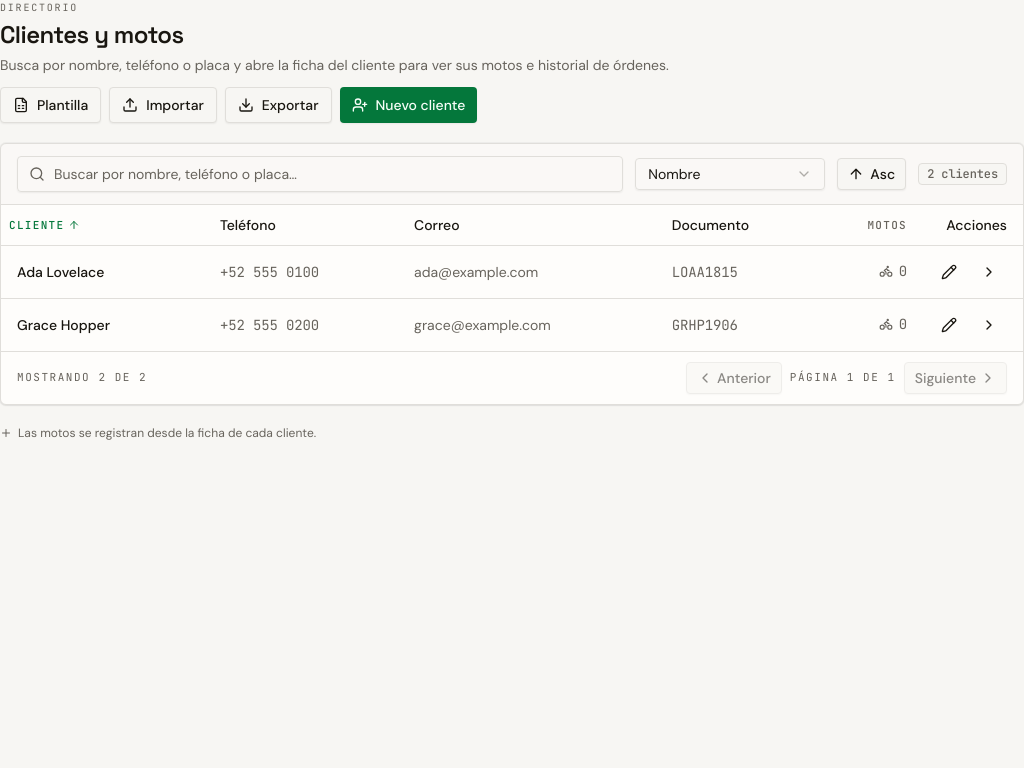
it: CustomersPage customer modal (characterization) › opens the edit modal seeded with the clicked customer's own data
This screenshot has width=1024, height=768.
Check: the link "Ada Lovelace" is shown, box [17,262,104,280]
Click the button with test id "customers.edit_button.2" at [949, 324], box [931,306,967,342]
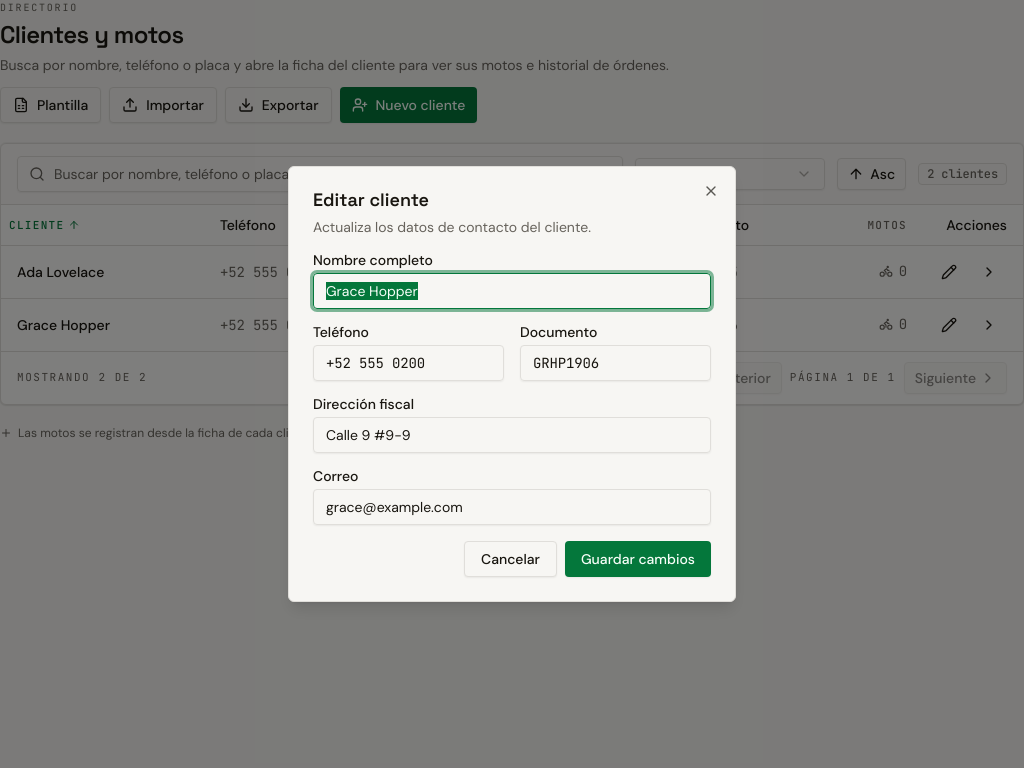
Check: the heading "Editar cliente" is shown, box [313,188,429,211]
Check: the field with test id "customer.name_input" holds "Grace Hopper", box [313,273,711,309]
Check: the field with test id "customer.phone_input" holds "+52 555 0200", box [313,345,504,381]
